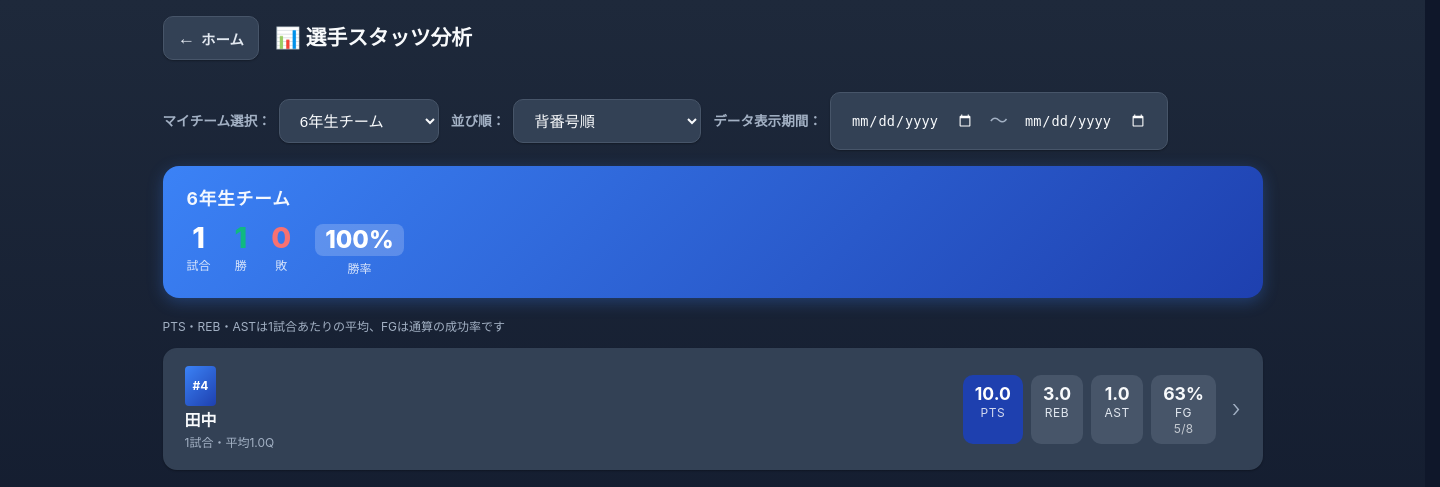
Test: データ表示期間の開始と終了 › 試合が本当に無い期間では、従来どおりの案内を出す
The image size is (1440, 487).
Type "2026-01-01" into the date field named "データ表示期間の開始日" at x=912, y=121, box [843,99,982,143]
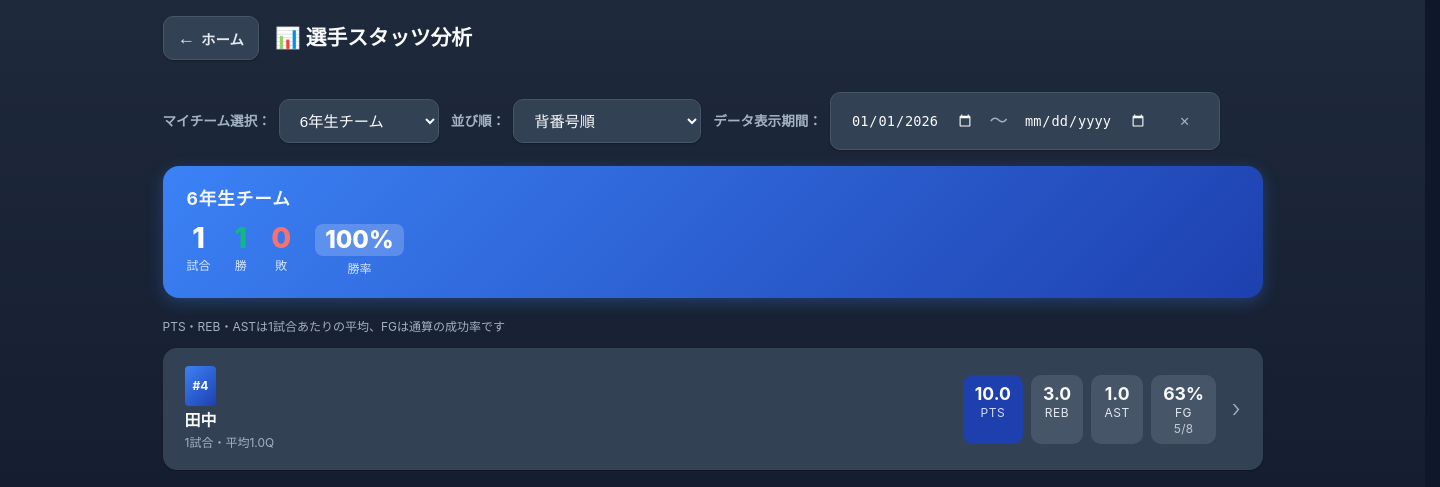
Type "2026-01-31" into the date field named "データ表示期間の終了日" at x=1085, y=121, box [1016,99,1155,143]
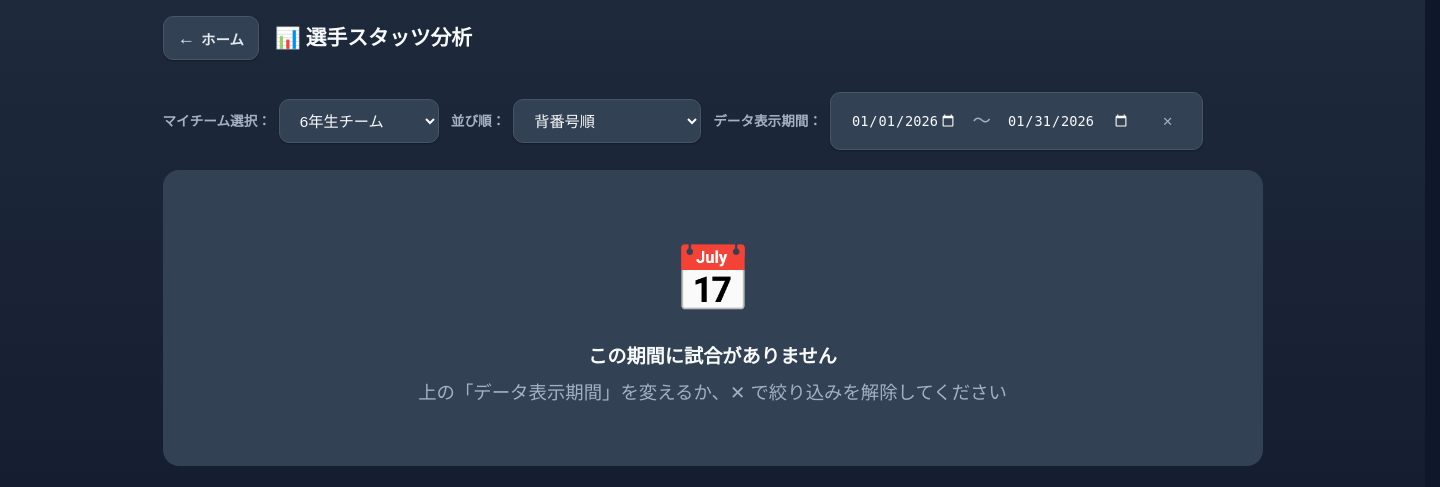
Check: the heading "この期間に試合がありません" is shown, box [588,344,837,368]
